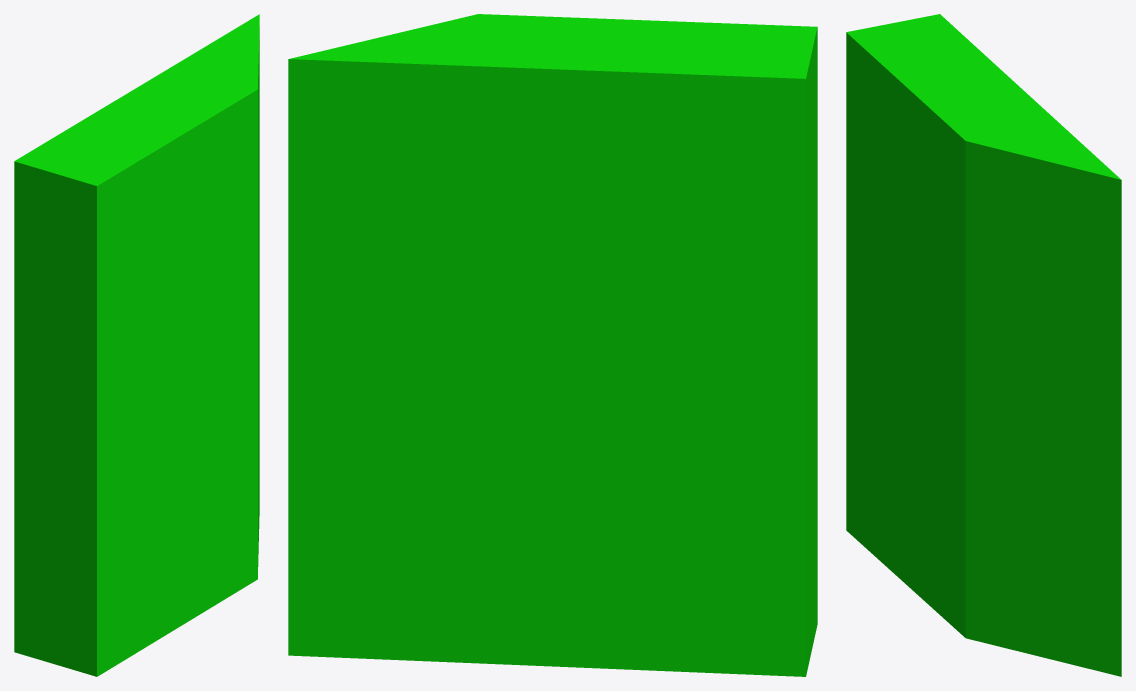
The picture shows the model from 3 angles, left to right: view 1: azimuth 30°, elevation 25°; view 2: azimuth 150°, elevation 25°; view 3: azimuth 270°, elevation 25°; orthographic projection. The views are drawn at different scales.
Visible parts, largest first — view 1: Plane.019; view 2: Plane.019; view 3: Plane.019.
Boxes of the visible parts, x1,y1,x2,y2 form: Plane.019: [14, 14, 259, 676]; Plane.019: [288, 14, 817, 676]; Plane.019: [846, 14, 1121, 676].
Size of the model in its own units: 409 by 572 by 287.
